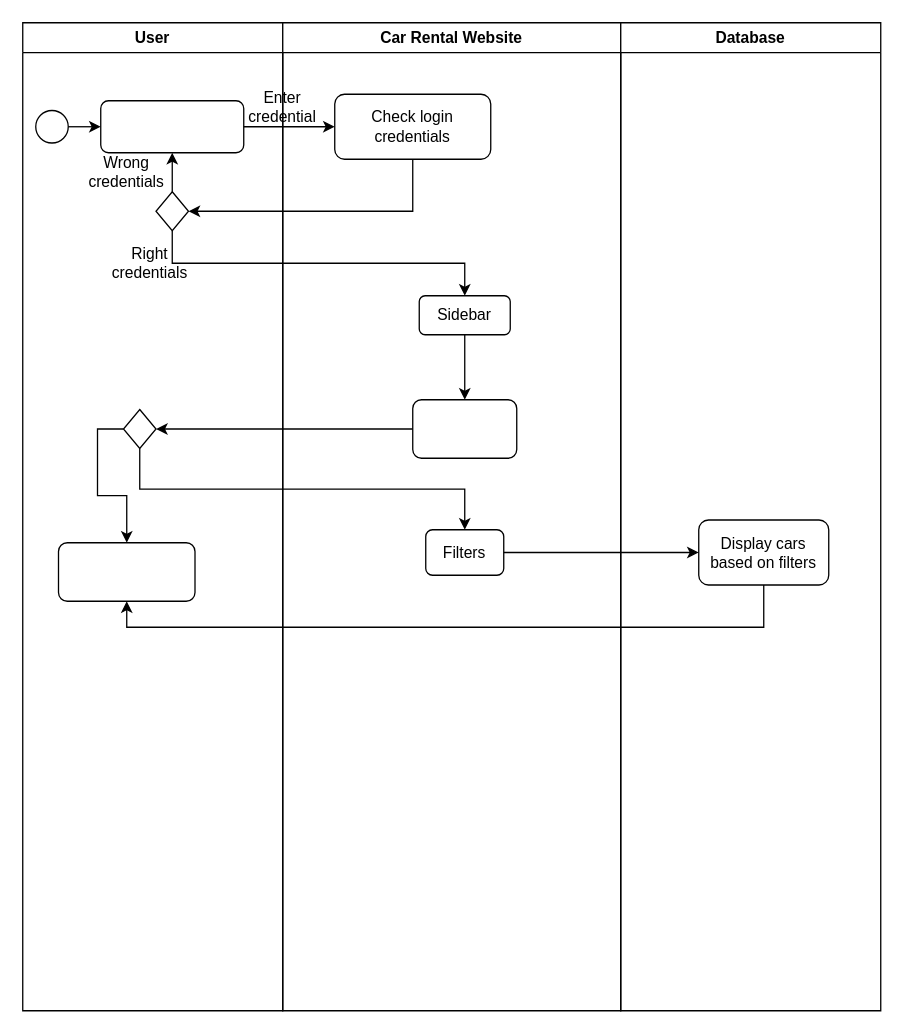
The diagram is 903 pixels wide and 1034 high, and some of its shapes have lost their labels. The centre of each missing label's shape, as x and y in pixels:
"Browse vehicles" goes at pixel 126 571.
"Car listing" goes at pixel 464 428.
"Login" goes at pixel 171 126.
